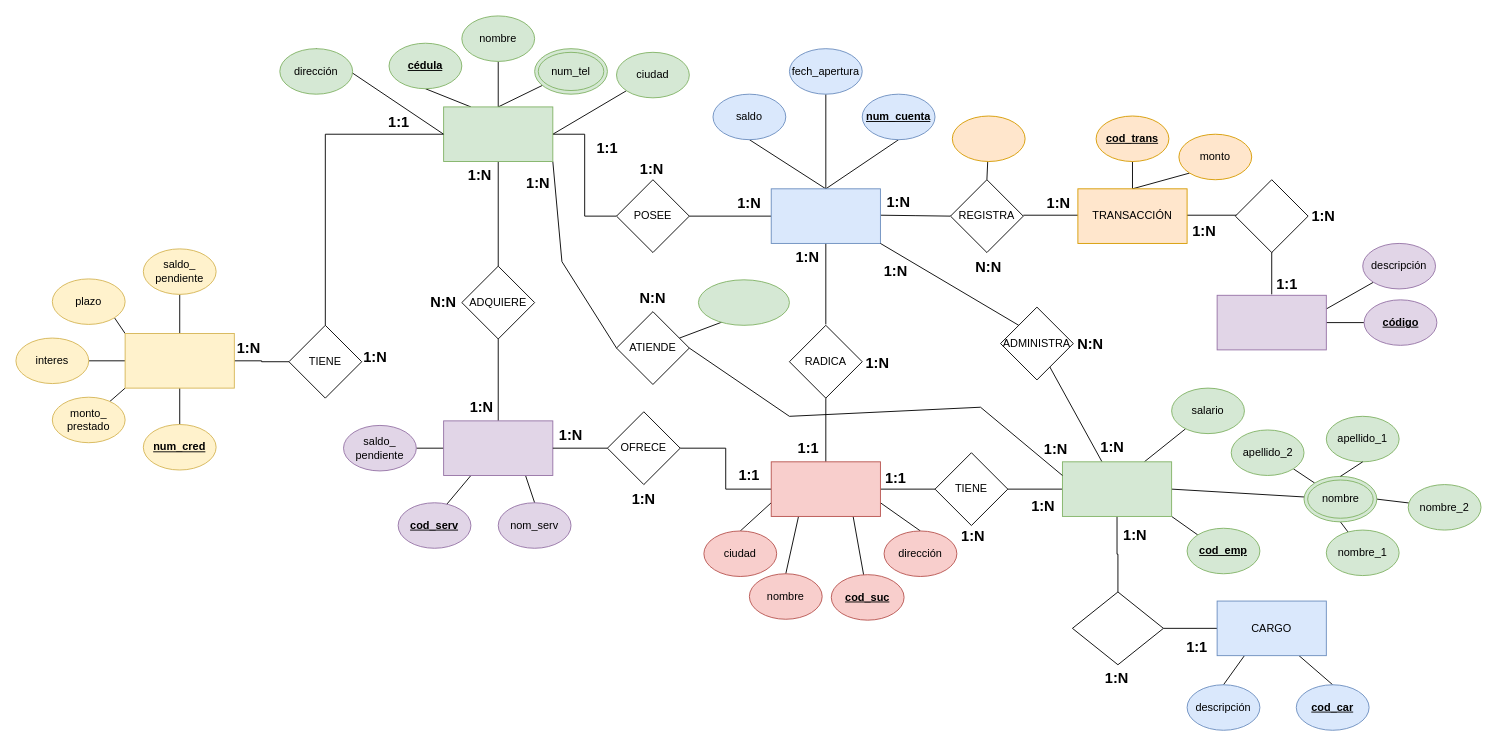
The diagram is 1497 pixels wide and 746 high, and some of its shapes have lost their labels. Each missing label, with the box of its shape:
CLASIFICA: (1234, 179, 1308, 253)
CLIENTE: (443, 106, 553, 162)
CRÉDITO: (124, 333, 234, 388)
CUENTA: (770, 188, 880, 243)
DESEMPEÑA: (1072, 591, 1163, 665)
EMPLEADO: (1062, 461, 1172, 516)
fecha_atención: (698, 279, 789, 325)
fecha_hora: (951, 115, 1025, 162)
SERVICIO: (443, 420, 553, 475)
SUCURSAL: (770, 461, 880, 516)
TIPO: (1216, 294, 1326, 350)
